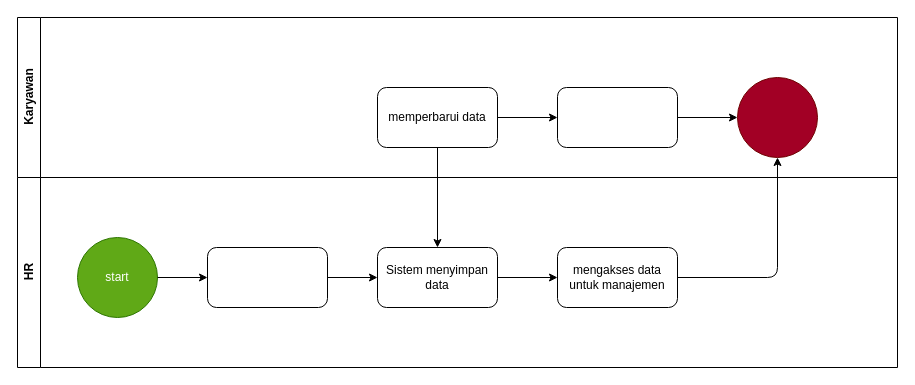
Image size: 915x385. Some labels were removed from this diagram. The centre of each missing label's shape, as x and y in pixels:
"end" belongs at pixel 777 117.
"Input data" belongs at pixel 267 277.
"Sistem mengupdate data" belongs at pixel 617 117.
